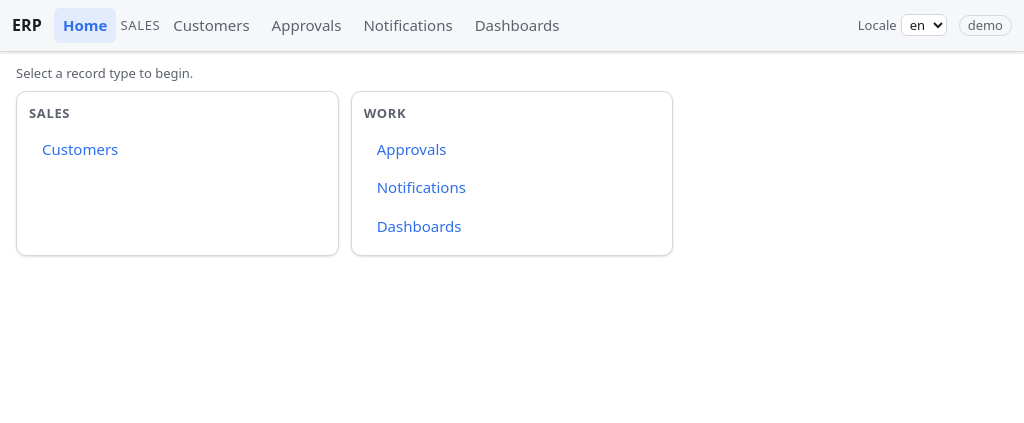
dashboards (PHASE-5 §5) › drill-through deep-links the row's filters into the entity list (§10 item 2's round-trip)
The image size is (1024, 423).
Click the button "Dashboards" in the row of "Locale": (517, 25) [466, 8, 568, 42]
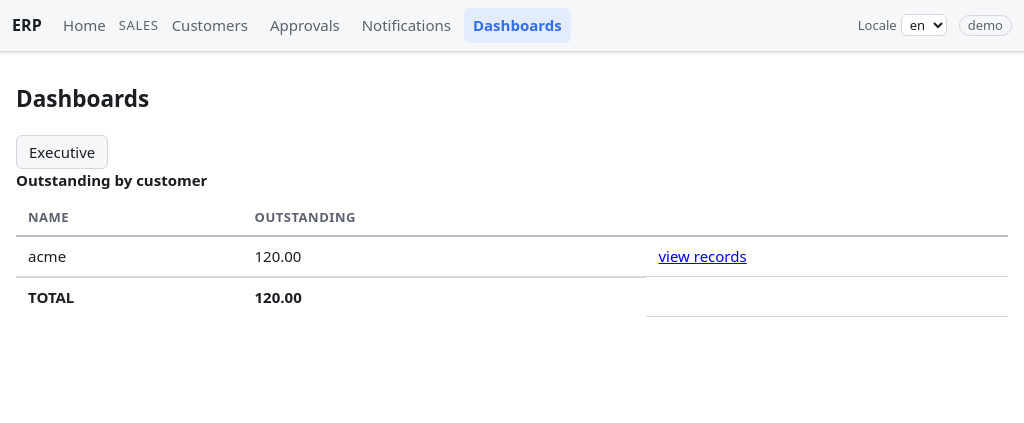
Click the link "view records": (703, 256) [658, 246, 747, 266]
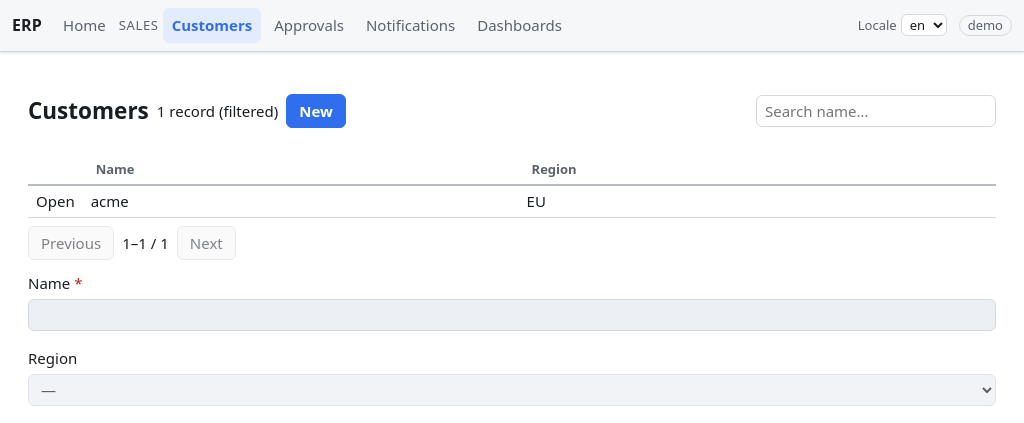
Expected: the text "1 record (filtered)" is shown, [157, 100, 278, 122]
